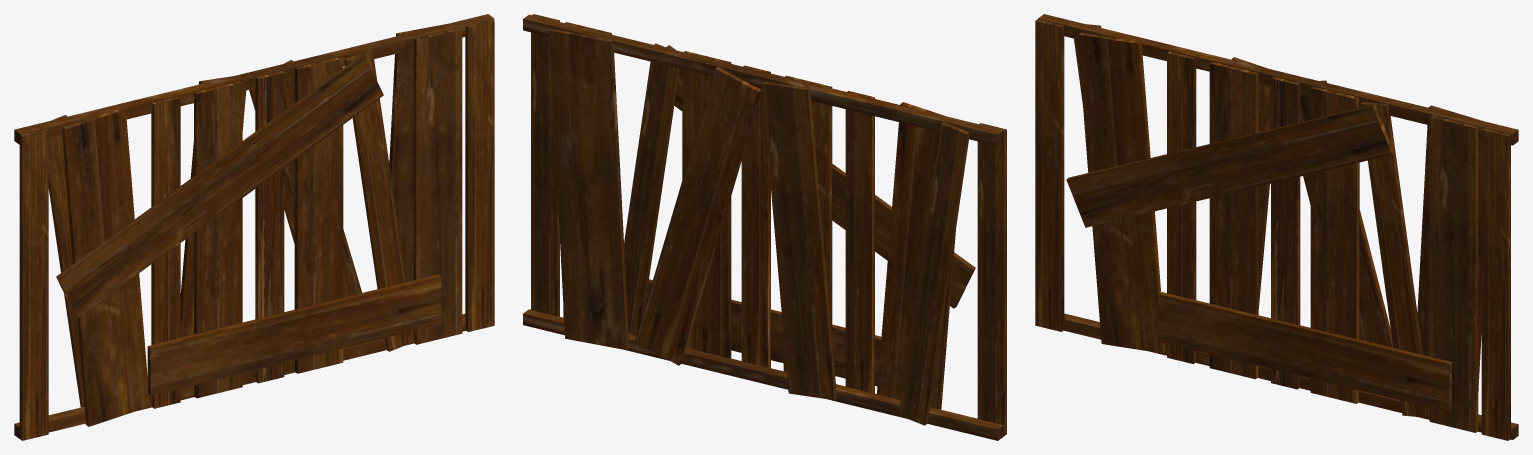
The model's file is shackWall4.fbx.
3 renders of one model, left to right at view 1: azimuth 30°, elevation 25°; view 2: azimuth 150°, elevation 25°; view 3: azimuth 330°, elevation 25°, orthographic.
Parts seen in each view (by area): view 1: ShackWall3; view 2: ShackWall3; view 3: ShackWall3.
Boxes of the visible parts, box(x1,y1,x2,y2) form: ShackWall3: box(14, 14, 494, 440); ShackWall3: box(523, 14, 1006, 440); ShackWall3: box(1035, 14, 1518, 440).
Bounding box in the file's own units: 408 × 254 × 20.8.
Materials: 1 (1 with a texture image).
